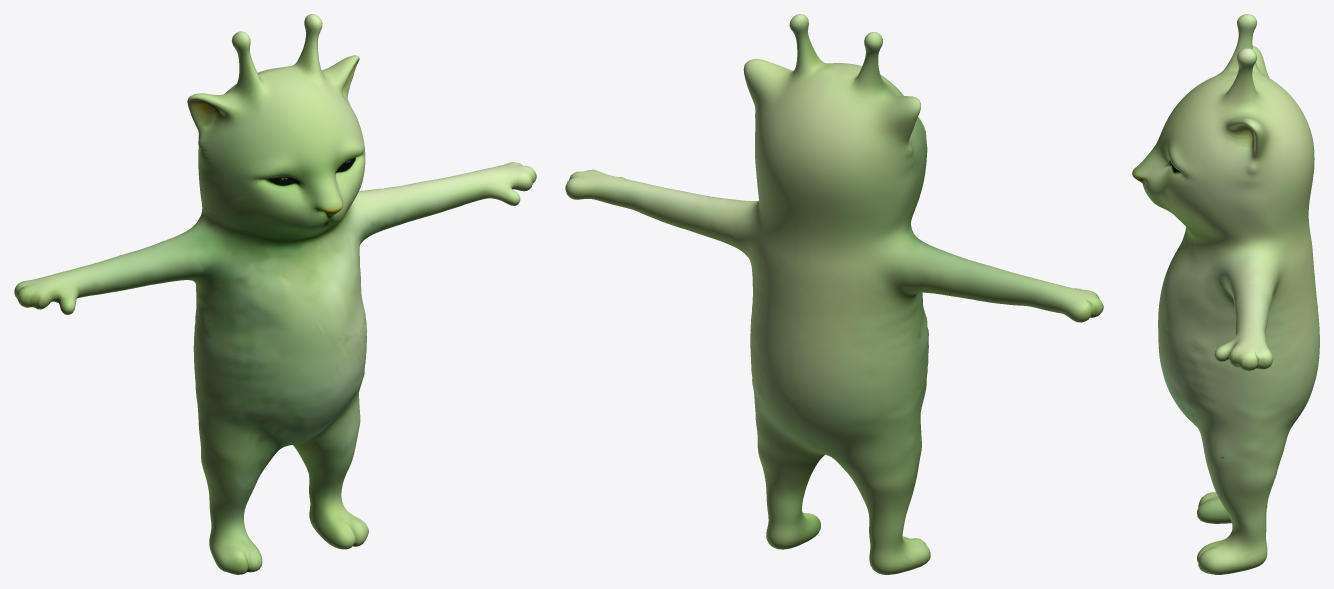
File: cat_alien__gato_alien_meme_3d_model.glb
The picture shows the model from 3 angles, left to right: view 1: azimuth 30°, elevation 25°; view 2: azimuth 150°, elevation 25°; view 3: azimuth 270°, elevation 25°; orthographic projection. The views are drawn at different scales.
Visible parts, largest first — view 1: Object_2; view 2: Object_2; view 3: Object_2.
Part boxes in pixels (x1,y1,x2,y2): Object_2: (14,14,536,574); Object_2: (565,14,1103,574); Object_2: (1132,14,1319,574).
Bounding box in the file's own units: 1.82 × 1.76 × 0.5829.
1 material, 1 textured.
